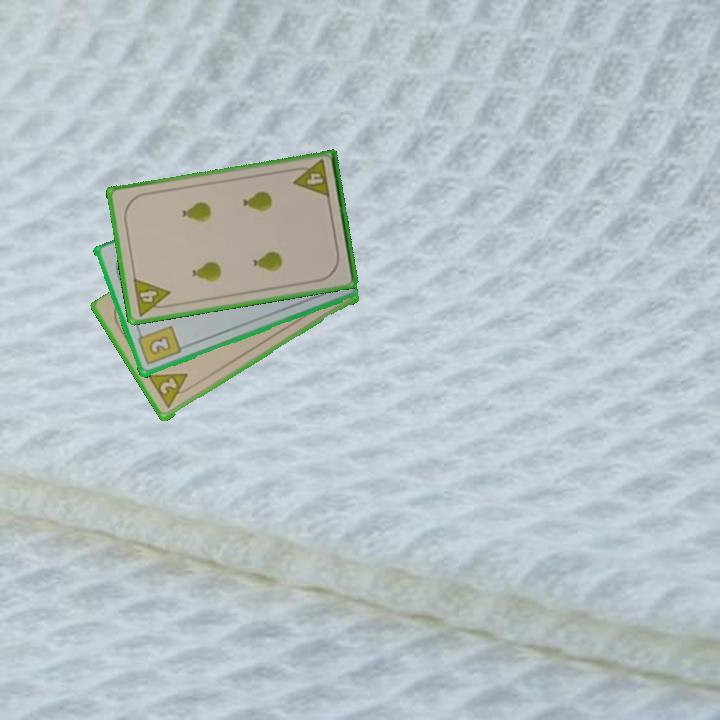2b: (134, 323, 183, 368)
2p: (156, 375, 180, 398)
4p: (130, 275, 175, 319), (289, 156, 333, 201)
